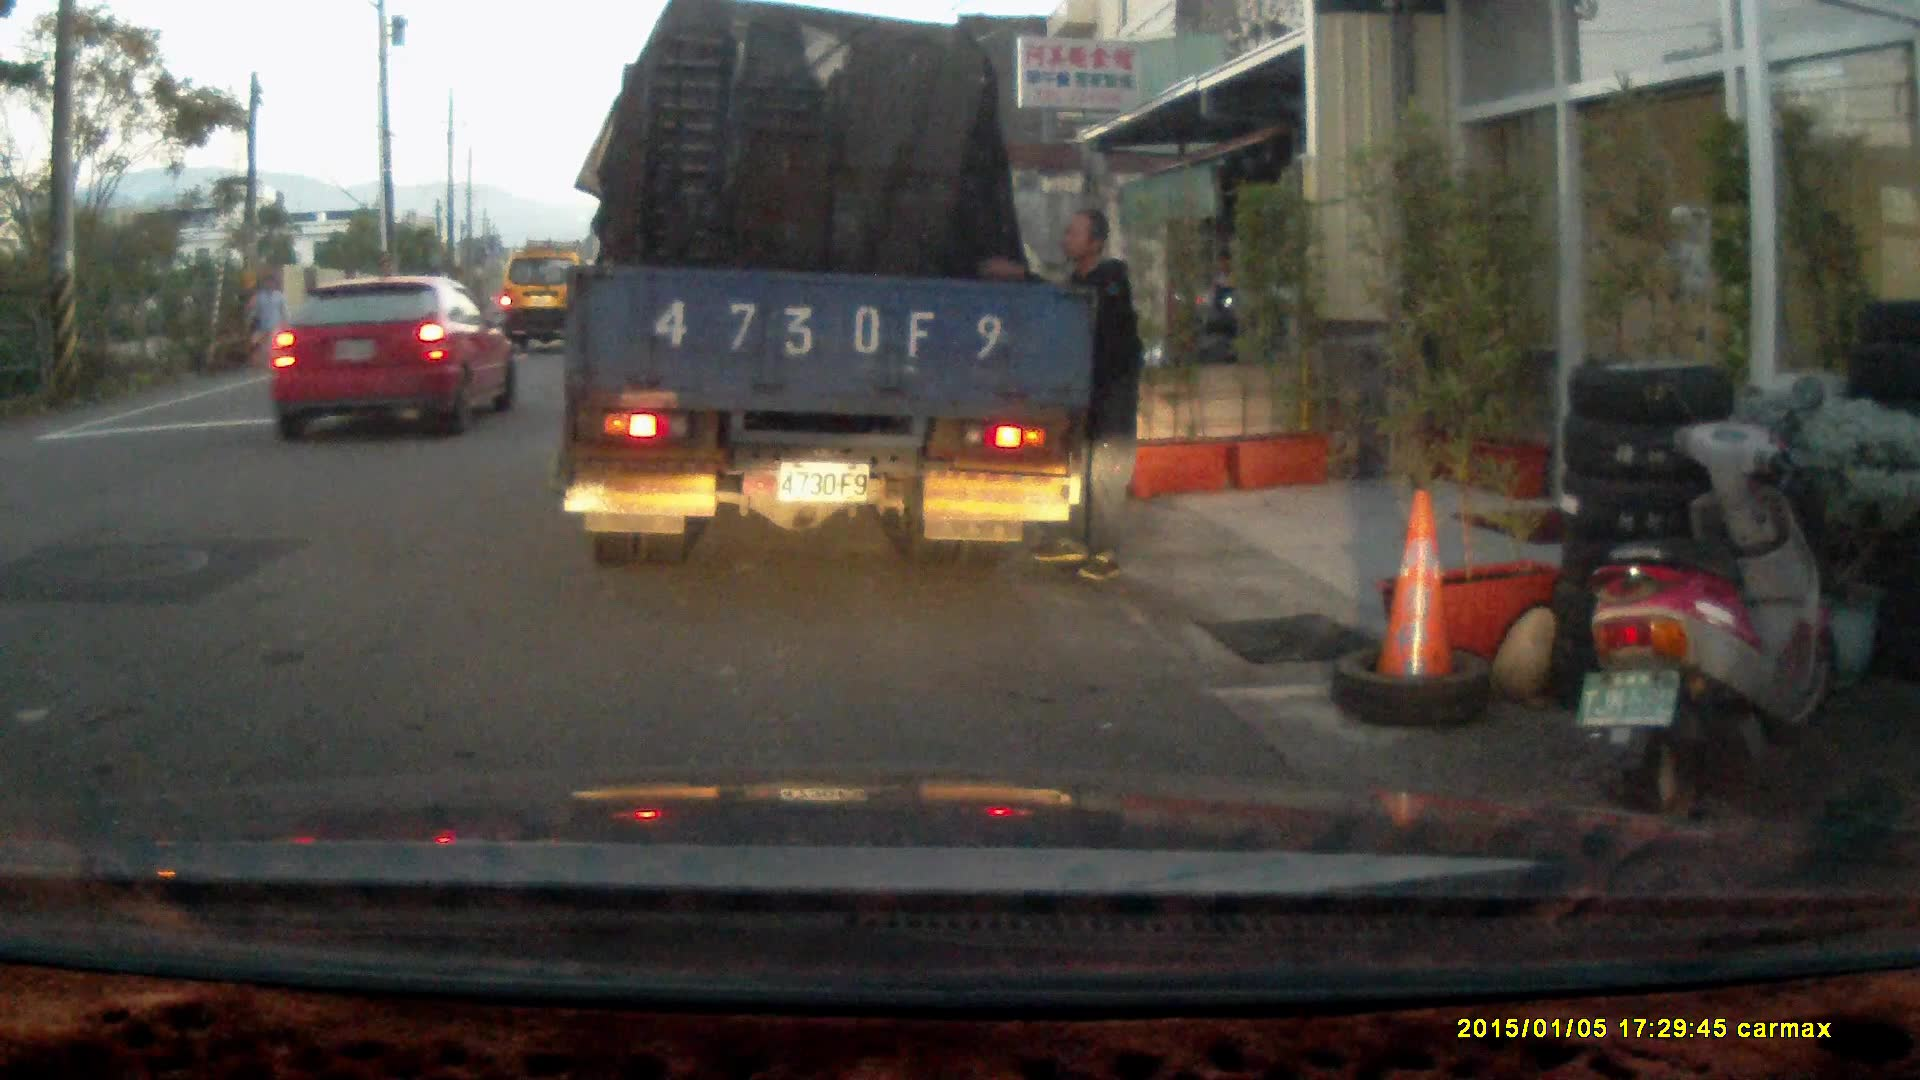pedestrian: (983, 208, 1141, 582), (246, 275, 287, 371)
vehicle: (565, 23, 1097, 572), (270, 276, 517, 443), (499, 248, 591, 348)
